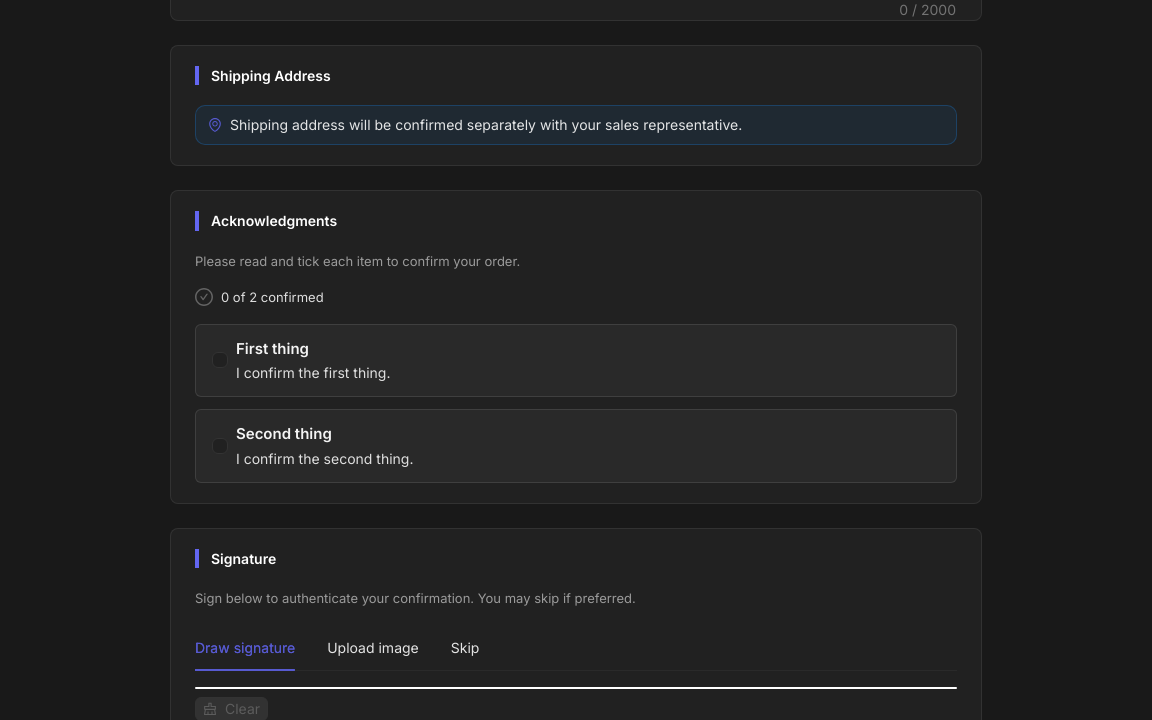
it: CustomerOrderView › enables the Confirm button once all acknowledgments are checked
(page scrolled)
Click the checkbox labelled "First thing I confirm the first thing." at (301, 360), box [212,339,390,381]
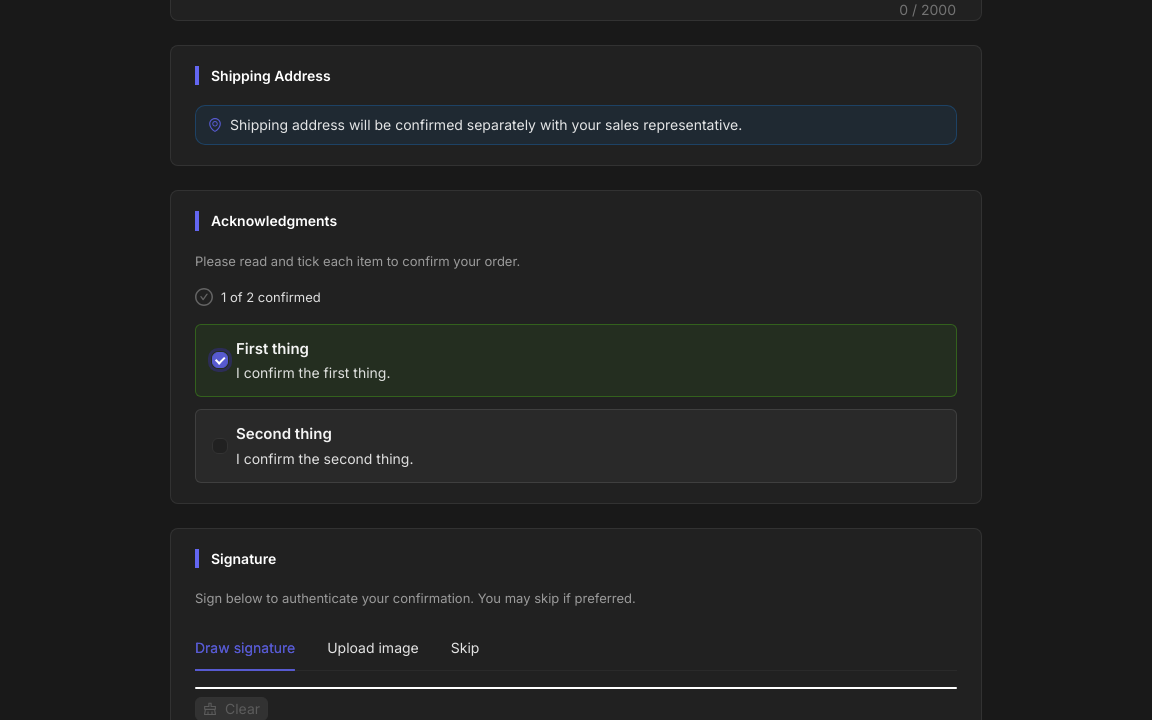
Click the checkbox labelled "Second thing I confirm the second thing." at (313, 446), box [212,424,414,467]
(page scrolled)
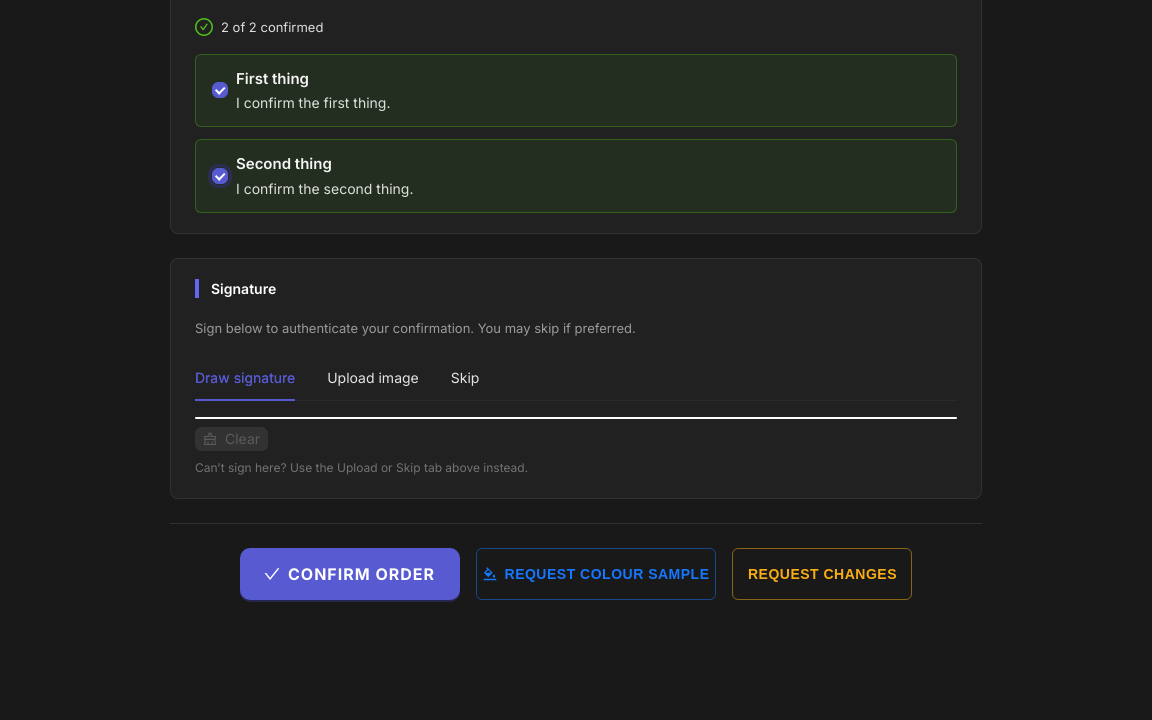
Expected: the button "Confirm Order" is enabled, [240,548,460,600]
